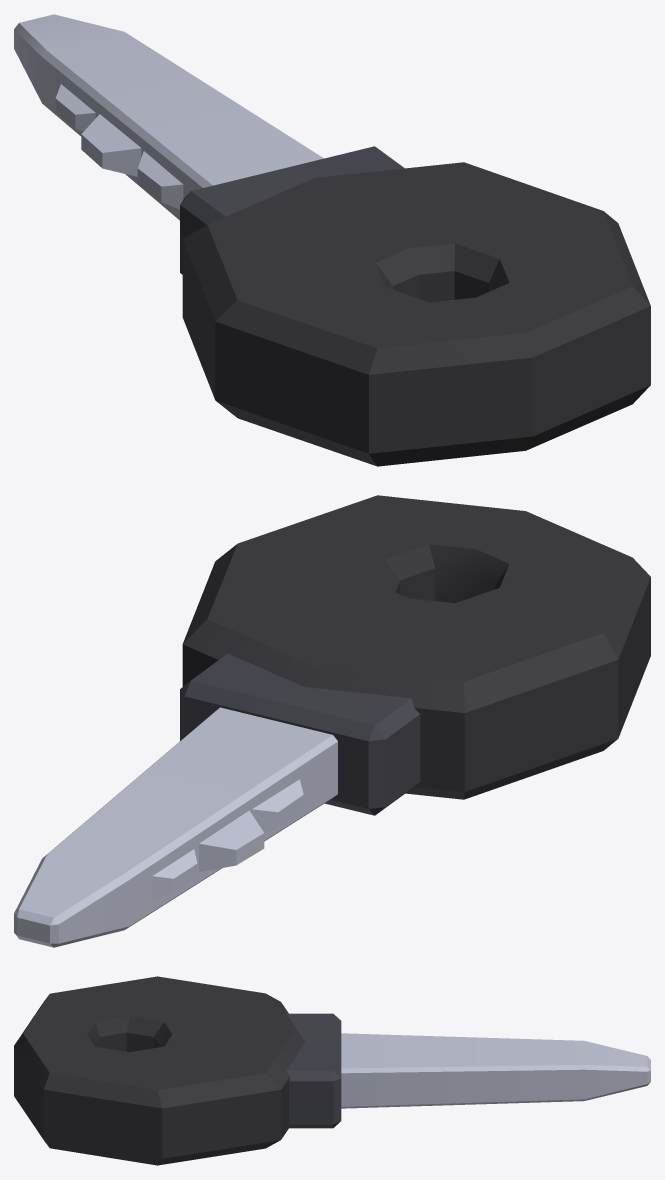
Rendered from Llave.glb.
3 views of the same model, one above another, from view 1: azimuth 30°, elevation 25°; view 2: azimuth 150°, elevation 25°; view 3: azimuth 270°, elevation 25° (orthographic). The views are drawn at different scales.
Parts seen in each view (by area): view 1: Cube.002; view 2: Cube.002; view 3: Cube.002.
Part boxes in pixels (x1,y1,x2,y2): Cube.002: (14,14,650,466); Cube.002: (14,495,650,947); Cube.002: (14,976,650,1165).
Size of the model in its own units: 1.9 by 0.5304 by 4.07.
1 material, 1 textured.
